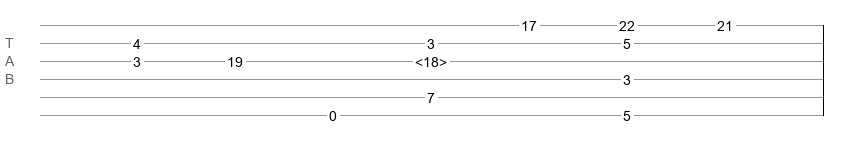0: (329, 108, 337, 118)
17: (521, 18, 537, 28)
19: (227, 54, 243, 64)
21: (717, 18, 733, 28)
22: (619, 18, 635, 28)
3: (133, 54, 141, 64), (427, 36, 435, 46), (623, 72, 631, 82)
4: (133, 36, 141, 46)
5: (623, 36, 631, 46), (623, 108, 631, 118)
7: (427, 90, 435, 100)
harmonic: (415, 54, 447, 64)
